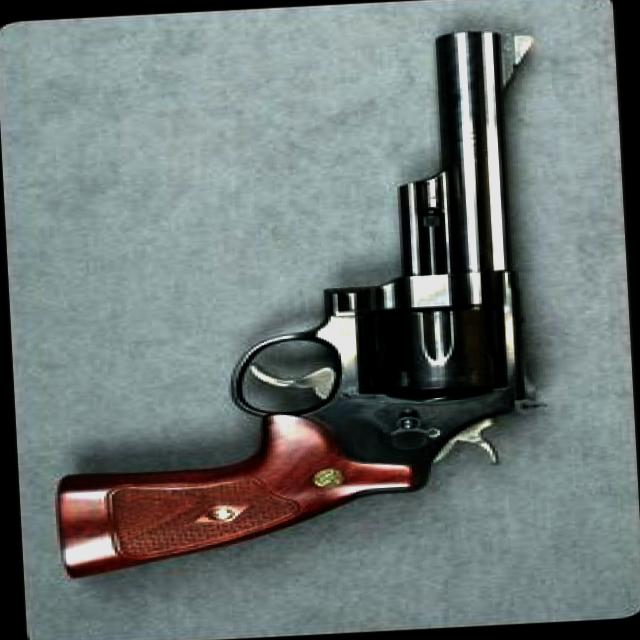revolver: (1, 2, 630, 640)
